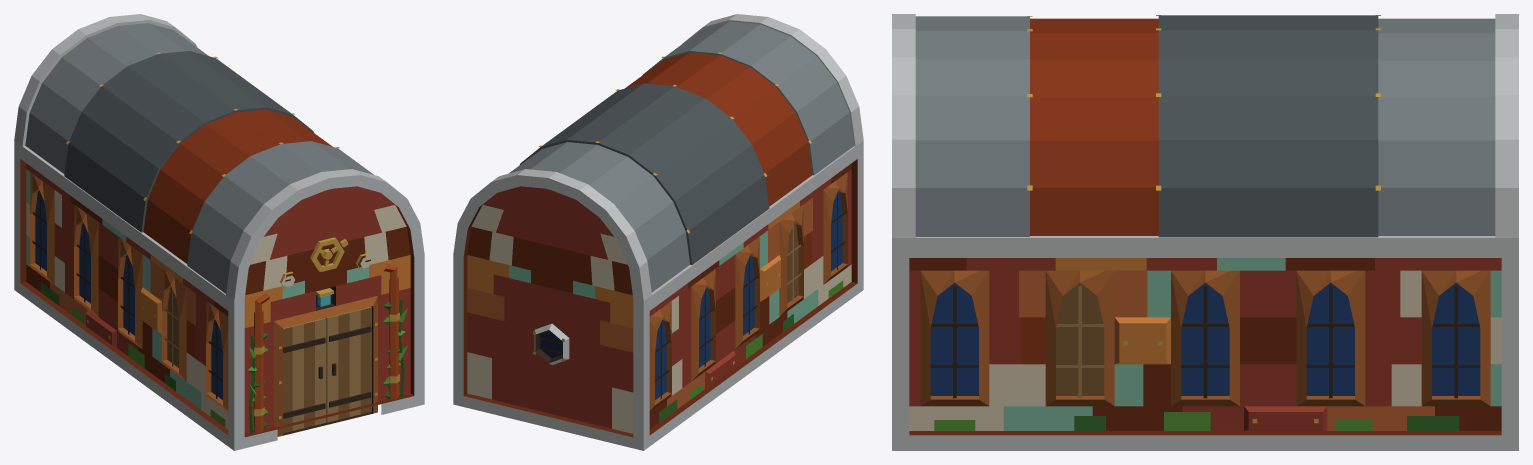
The model's file is riveted-boiler-hall-da0c09.glb.
3 views of the same model, side by side, from view 1: azimuth 30°, elevation 25°; view 2: azimuth 150°, elevation 25°; view 3: azimuth 270°, elevation 25° (orthographic). The views are drawn at different scales.
Visible parts, largest first — view 1: hall, door-r-mesh, door-l-mesh, valve-wheel-mesh; view 2: hall; view 3: hall.
Boxes of the visible parts, box(x1,y1,x2,y2) form: hall: box(14, 14, 424, 450); door-r-mesh: box(325, 306, 371, 422); door-l-mesh: box(283, 318, 326, 433); valve-wheel-mesh: box(310, 237, 348, 271); hall: box(453, 14, 863, 450); hall: box(892, 14, 1518, 450).
Size of the model in its own units: 4 by 5.01 by 8.
